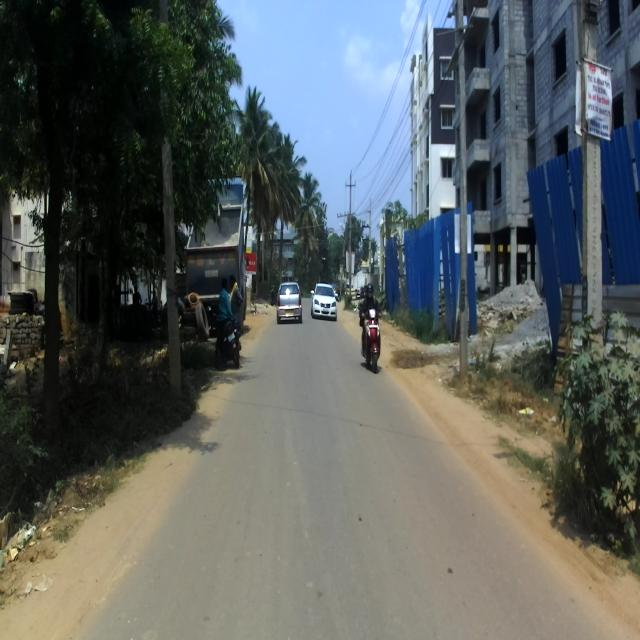electric pole ahead at: (567, 0, 608, 320), (158, 129, 188, 402)
plant ahead at: (570, 337, 640, 558)
